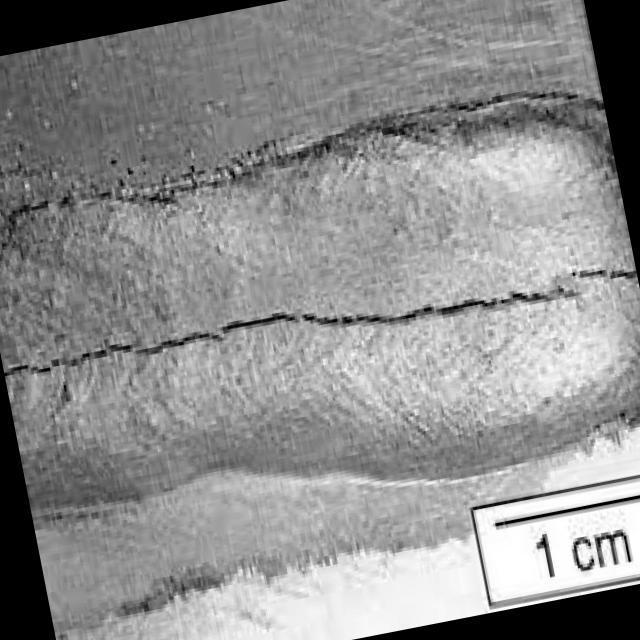defect: (4, 257, 633, 384)
